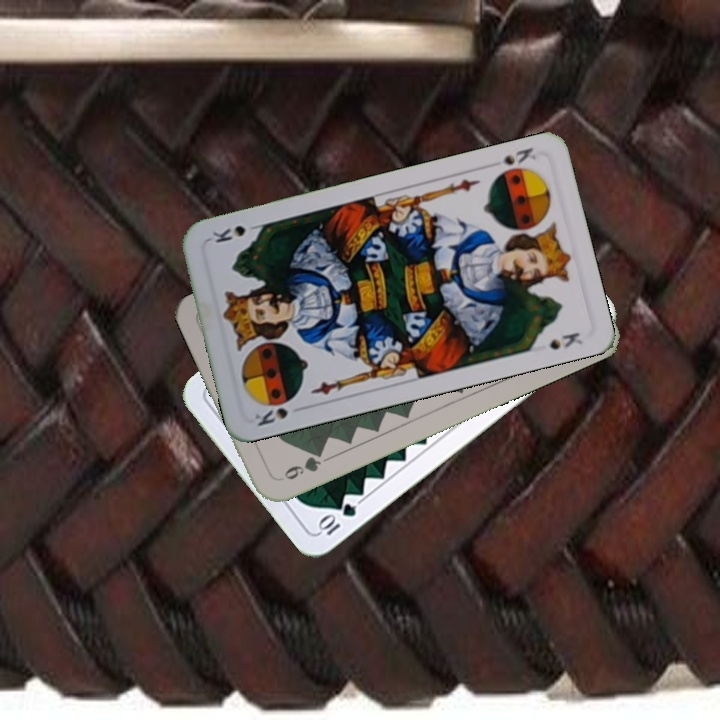G10: (314, 499, 359, 538)
G9: (274, 446, 326, 484)
SK: (250, 402, 308, 429), (497, 143, 539, 168)
